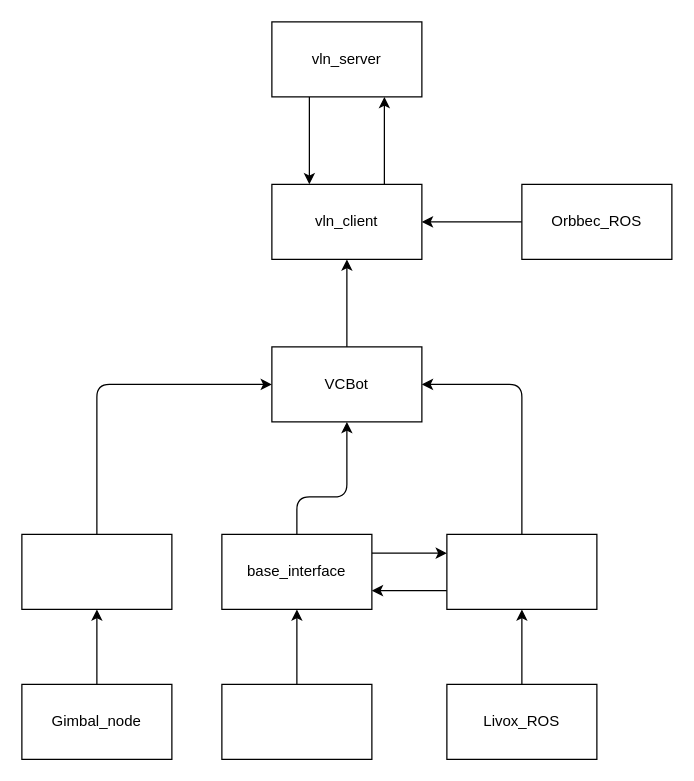
Some shapes in this 694 by 781 pixel diagram are drawn without their labels. The box of each missing label's shape, as (x1, y1, x2, y2) in pixels:
Gimbal_interface: (21, 533, 172, 609)
Odom_interface: (446, 533, 597, 609)
Ranger_ROS: (221, 683, 372, 759)
